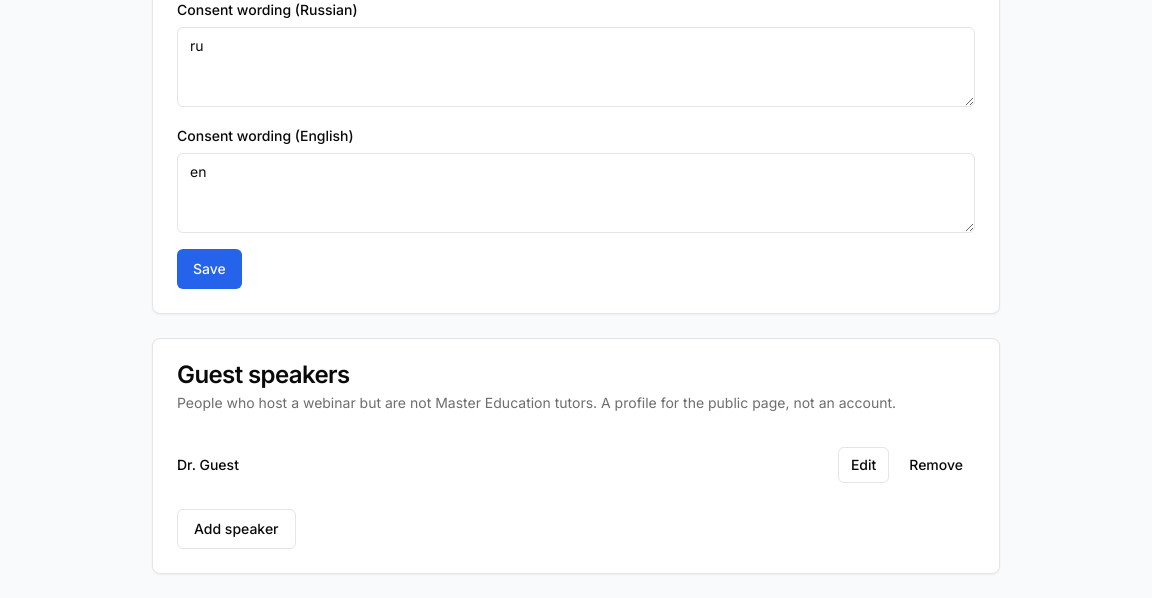
Test: Admin → Open webinars › removes a speaker from the list
(page scrolled)
Click the button "Remove": x=936, y=465 left=897, top=447, right=975, bottom=483
(page scrolled)
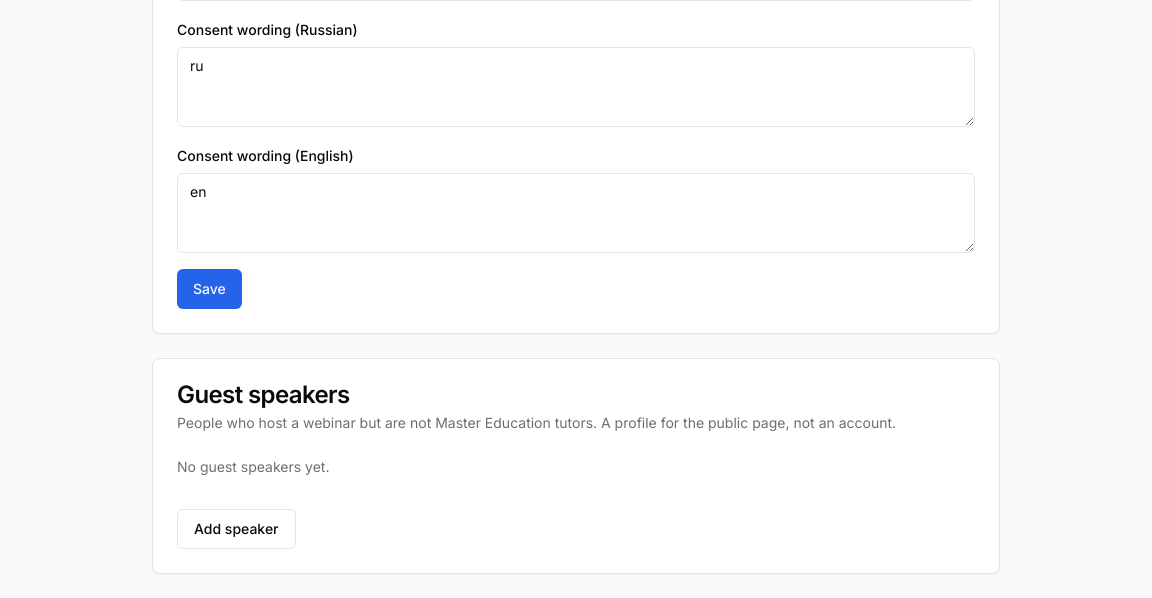
Check: the text "Dr. Guest" is gone
